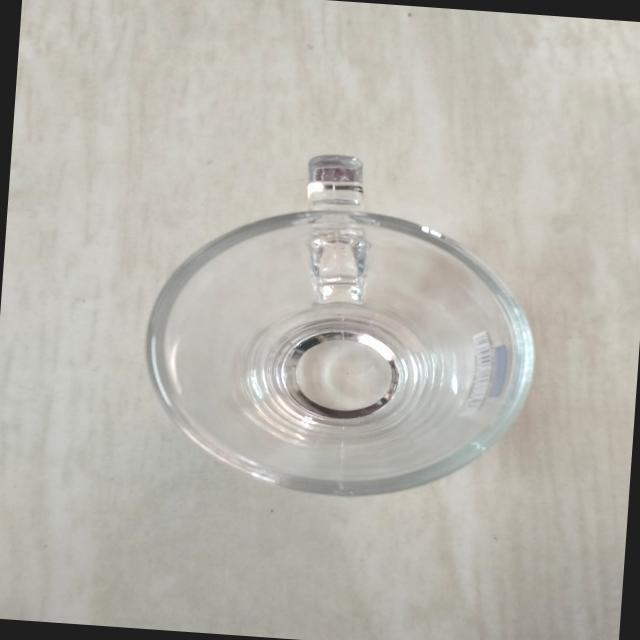glass-VX4N: (123, 139, 562, 517)
